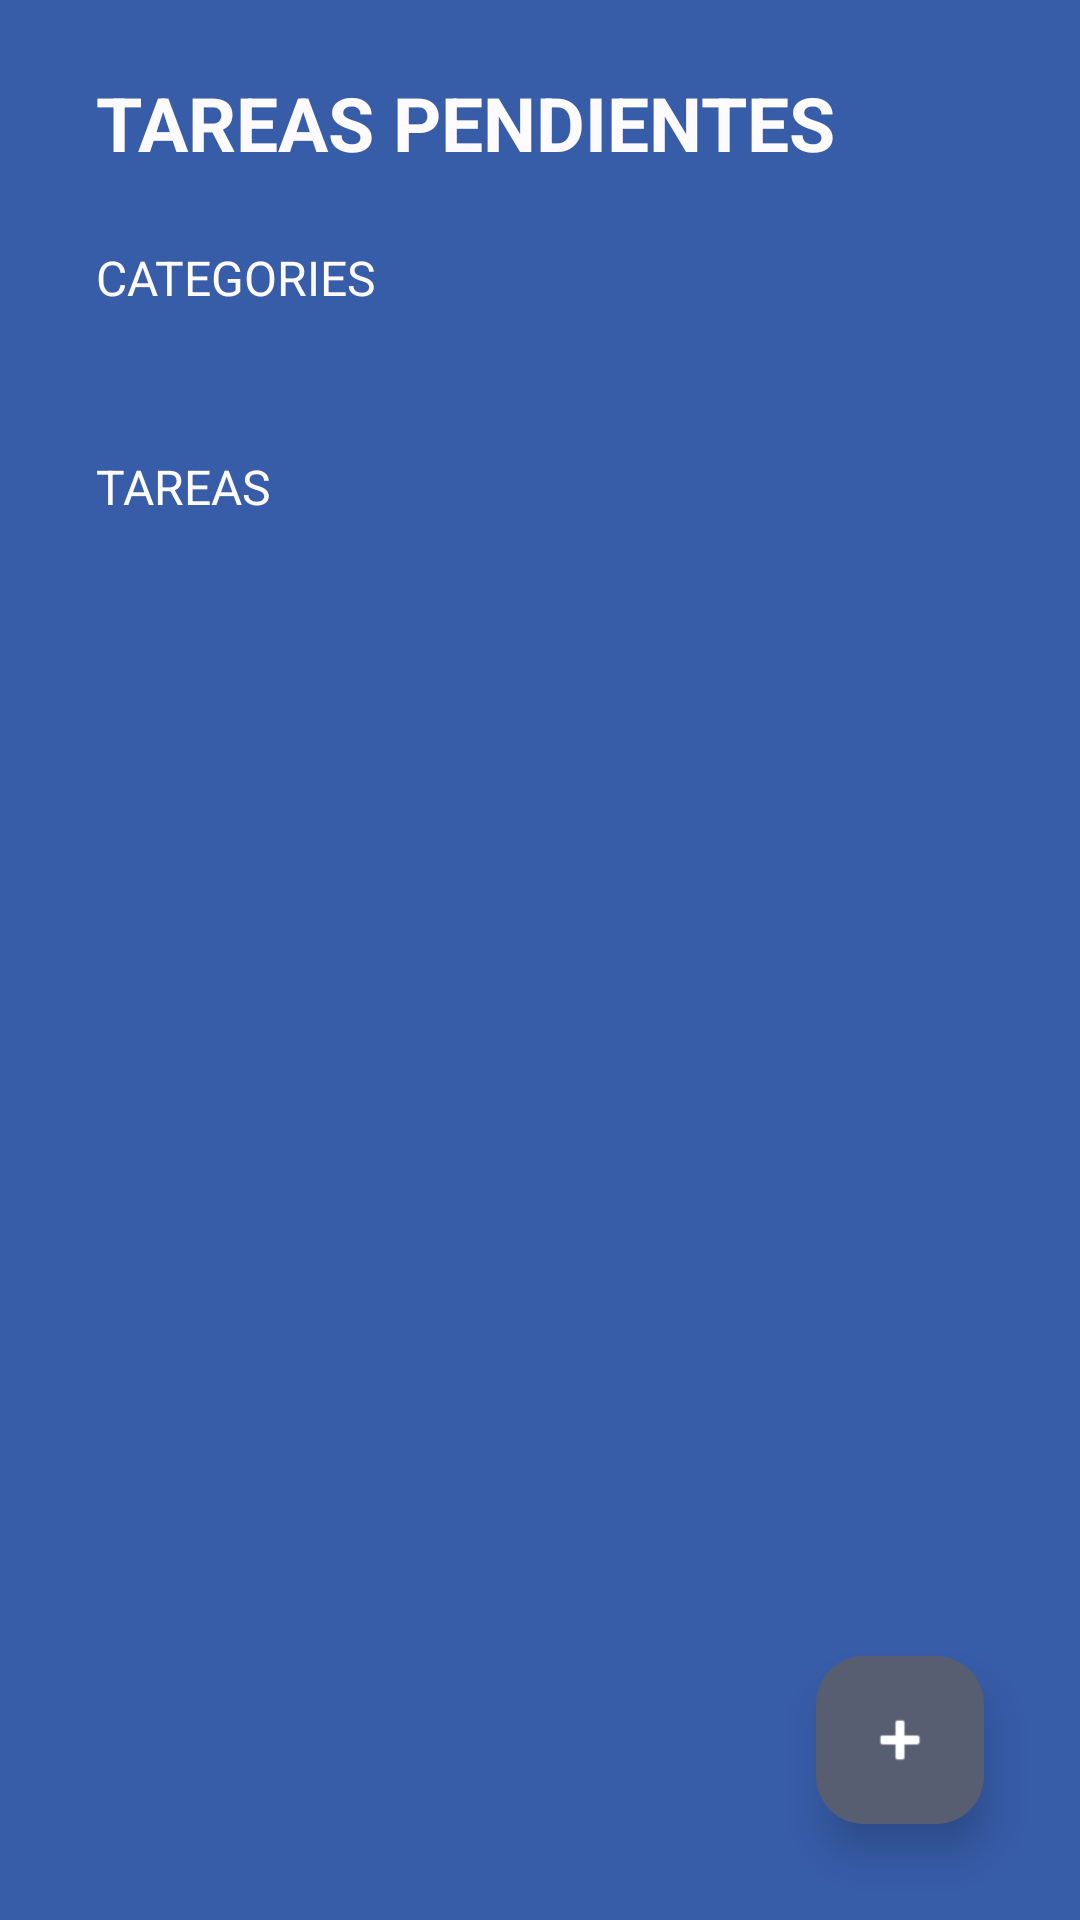

Named icons in this screenshot (1080px x 1920px) and their bounding boxes, detection(x1, y1, x2, y2):
add: detection(816, 1656, 984, 1824)
